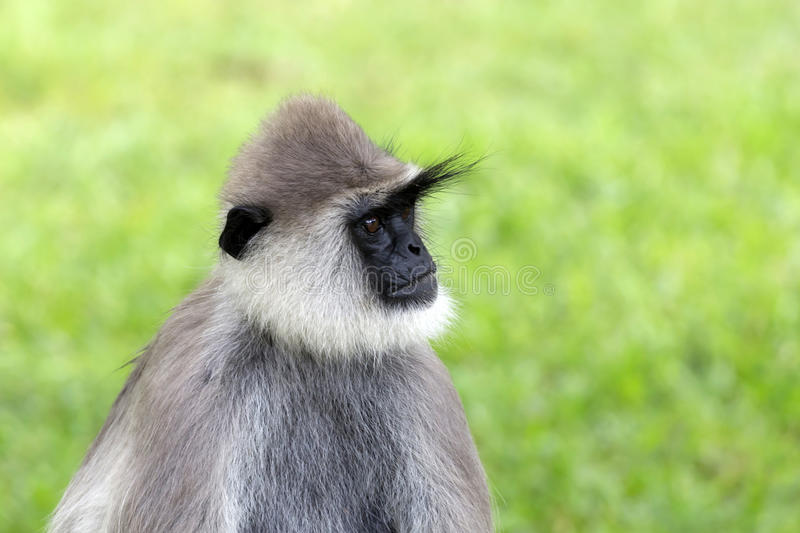monkey: (43, 85, 515, 533)
